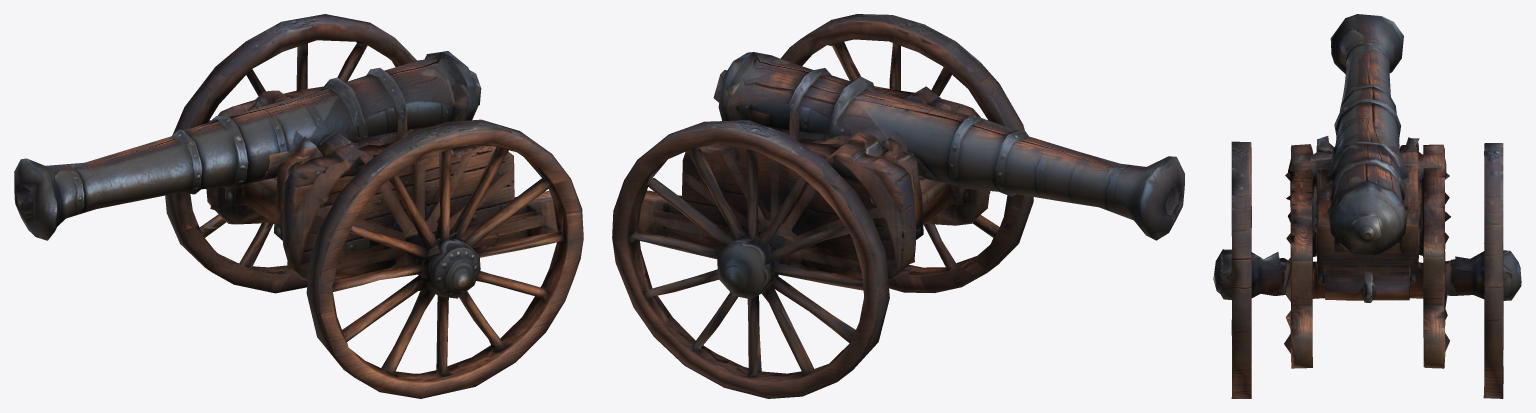
The model's file is cannon.glb.
3 renders of one model, left to right at view 1: azimuth 30°, elevation 25°; view 2: azimuth 150°, elevation 25°; view 3: azimuth 270°, elevation 25°, orthographic. The views are drawn at different scales.
Size of the model in its own units: 2.01 by 1 by 1.2.
Materials: 1 (1 with a texture image).
